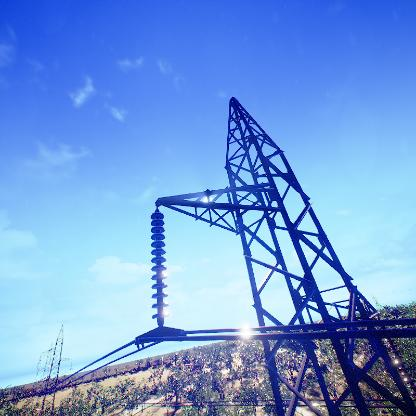insulator: (148, 209, 170, 322)
tower: (37, 321, 69, 416)
